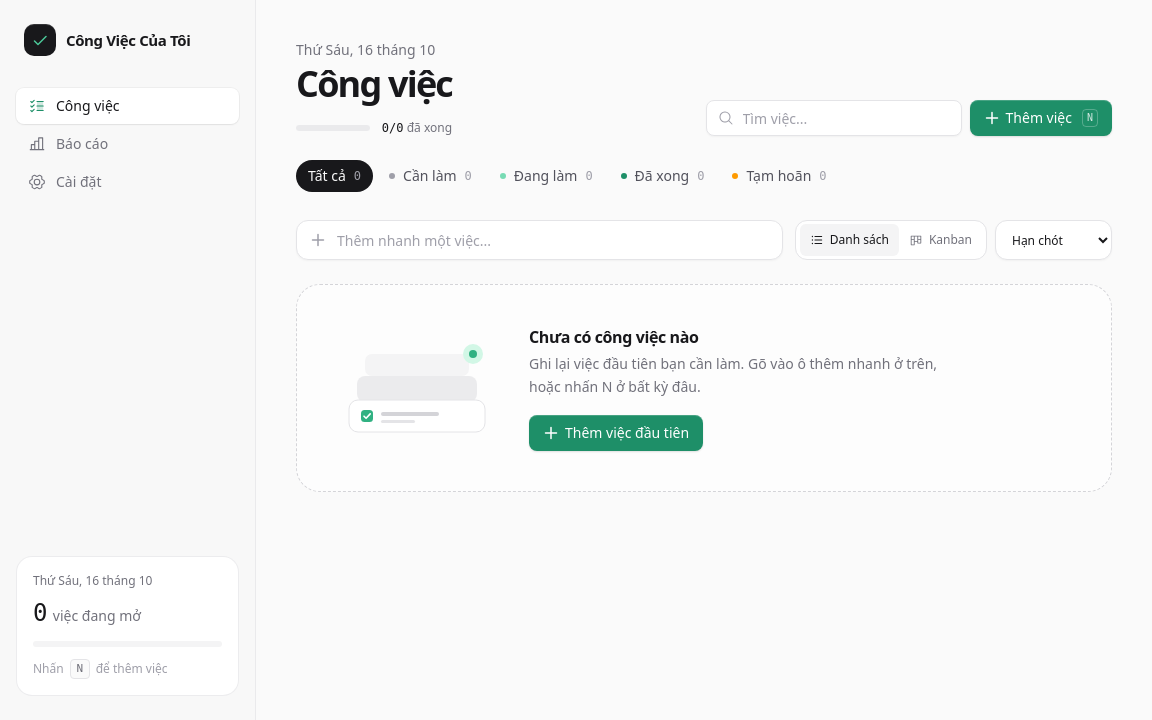
trang Công việc › trạng thái trống và phím N
Check: the text "Chưa có công việc nào" is shown, box [529,326,698,348]
Click the button "Thêm việc đầu tiên" at (616, 432), box [529,414,703,450]
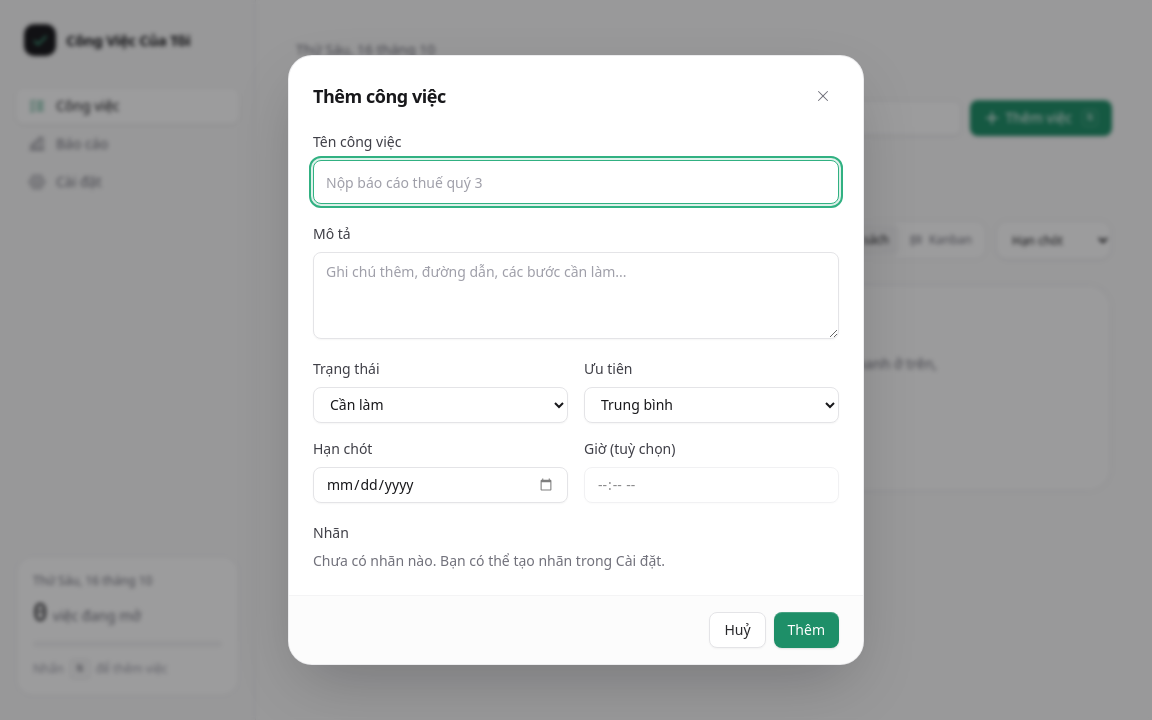
Check: the dialog "Thêm công việc" is shown, box [288,55,864,665]
Press Escape
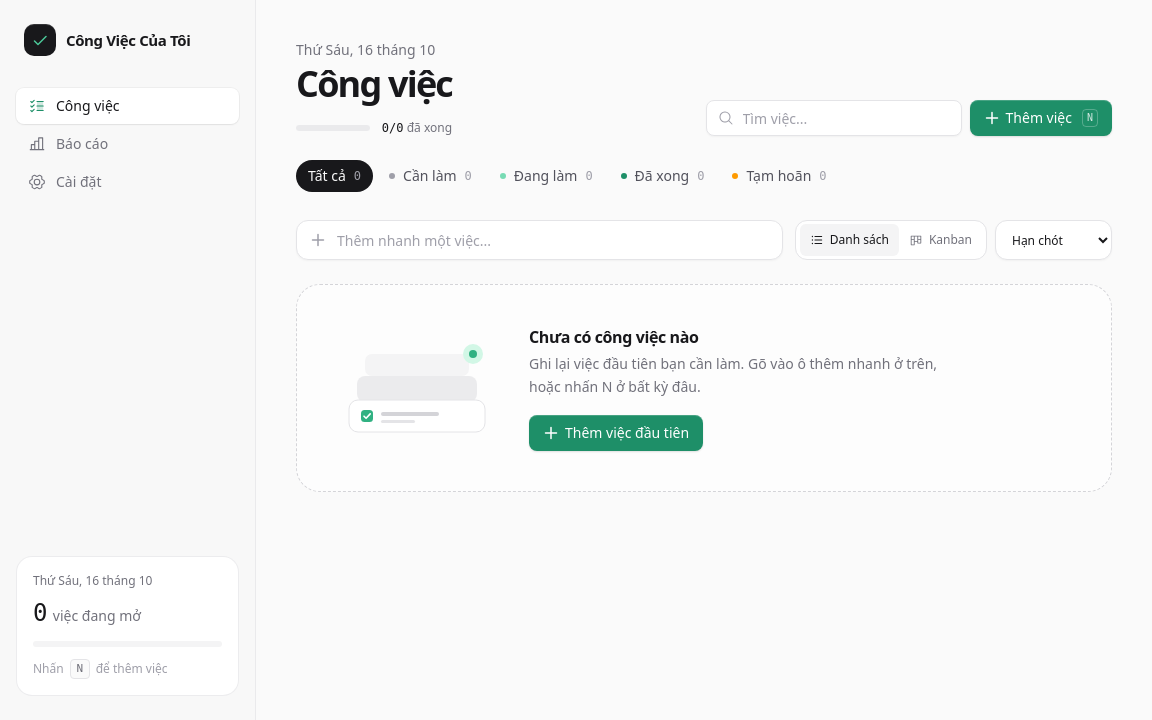
Type keys "n"
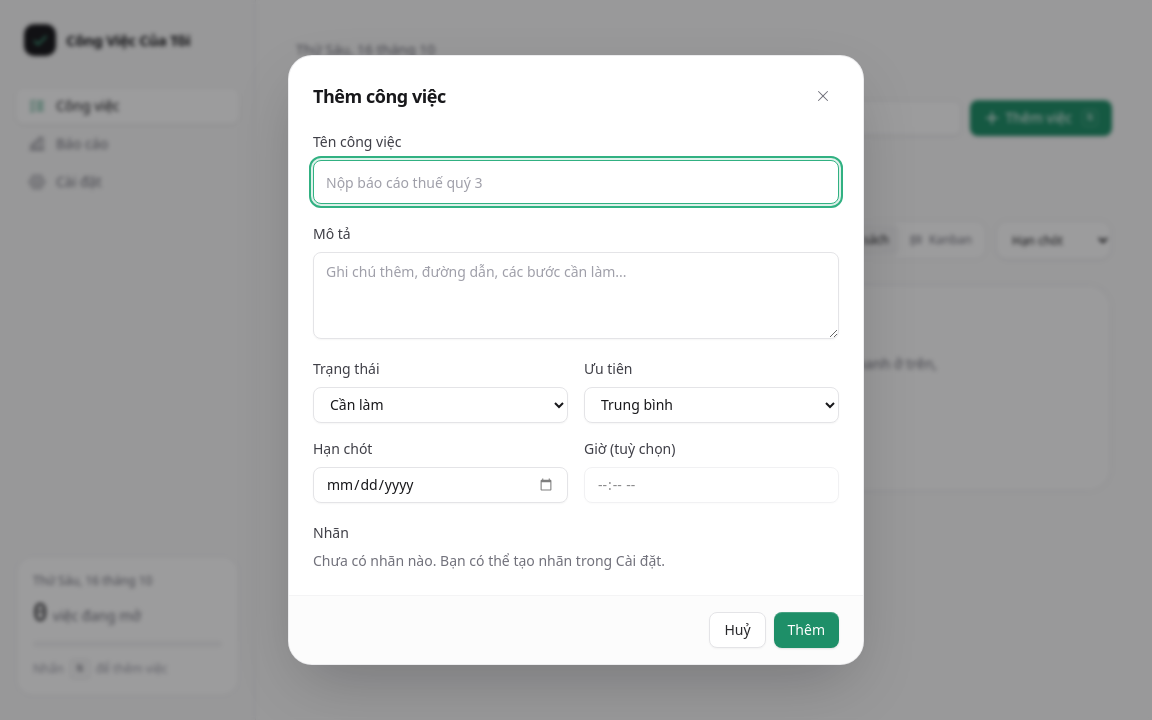
Check: the dialog "Thêm công việc" is shown, box [288,55,864,665]
